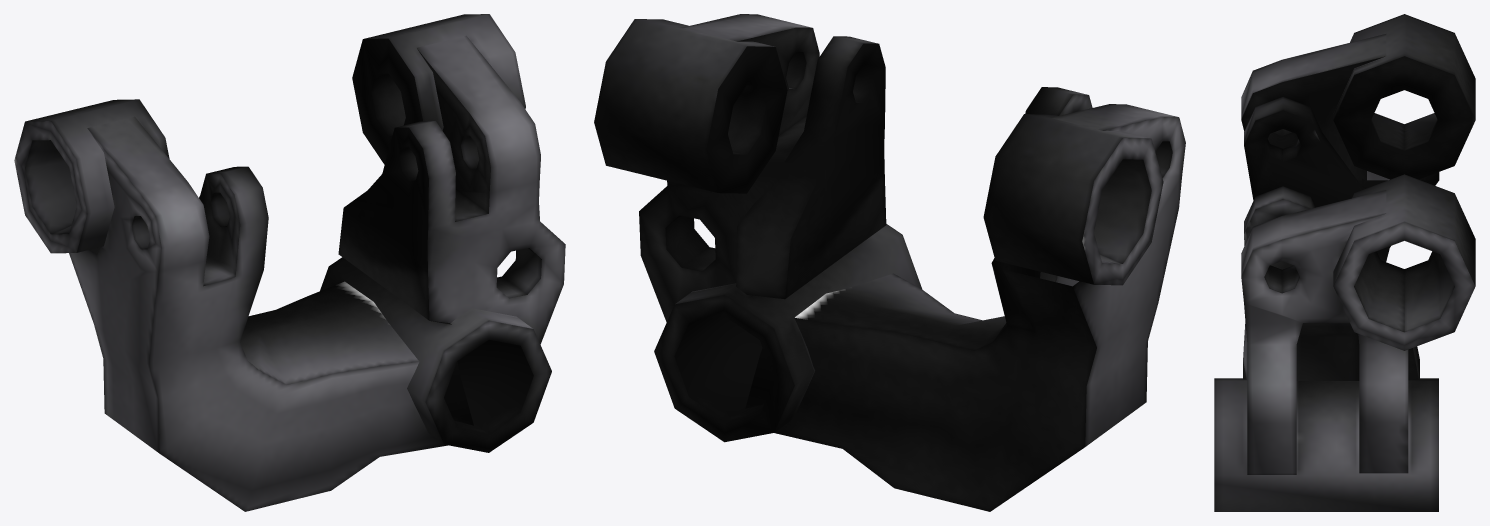
Rendered from r_lglut.dae.
3 renders of one model, left to right at view 1: azimuth 30°, elevation 25°; view 2: azimuth 150°, elevation 25°; view 3: azimuth 270°, elevation 25°, orthographic. The views are drawn at different scales.
Parts seen in each view (by area): view 1: r_lglut; view 2: r_lglut; view 3: r_lglut.
Boxes of the visible parts, bbox=[...] form: r_lglut: bbox=[14, 14, 565, 511]; r_lglut: bbox=[594, 14, 1185, 511]; r_lglut: bbox=[1214, 14, 1475, 511].
Size of the model in its own units: 0.1439 by 0.0762 by 0.1175.
Materials: 1 (1 with a texture image).
